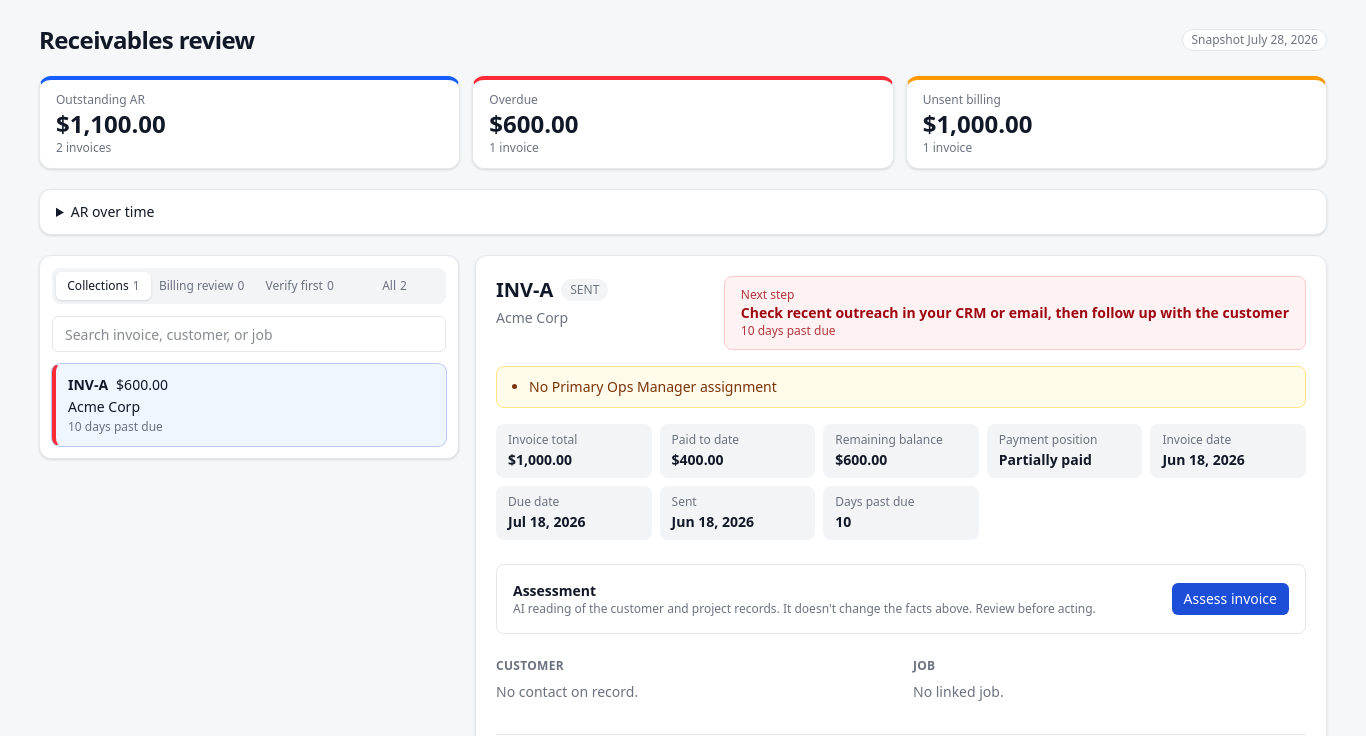
Test: paid and not-yet-due invoices don't offer an assessment
What coordinates should you click on to do the following:
click the tab "All 2"
I would click on:
 (395, 286)
Its box is [347,272,442,300].
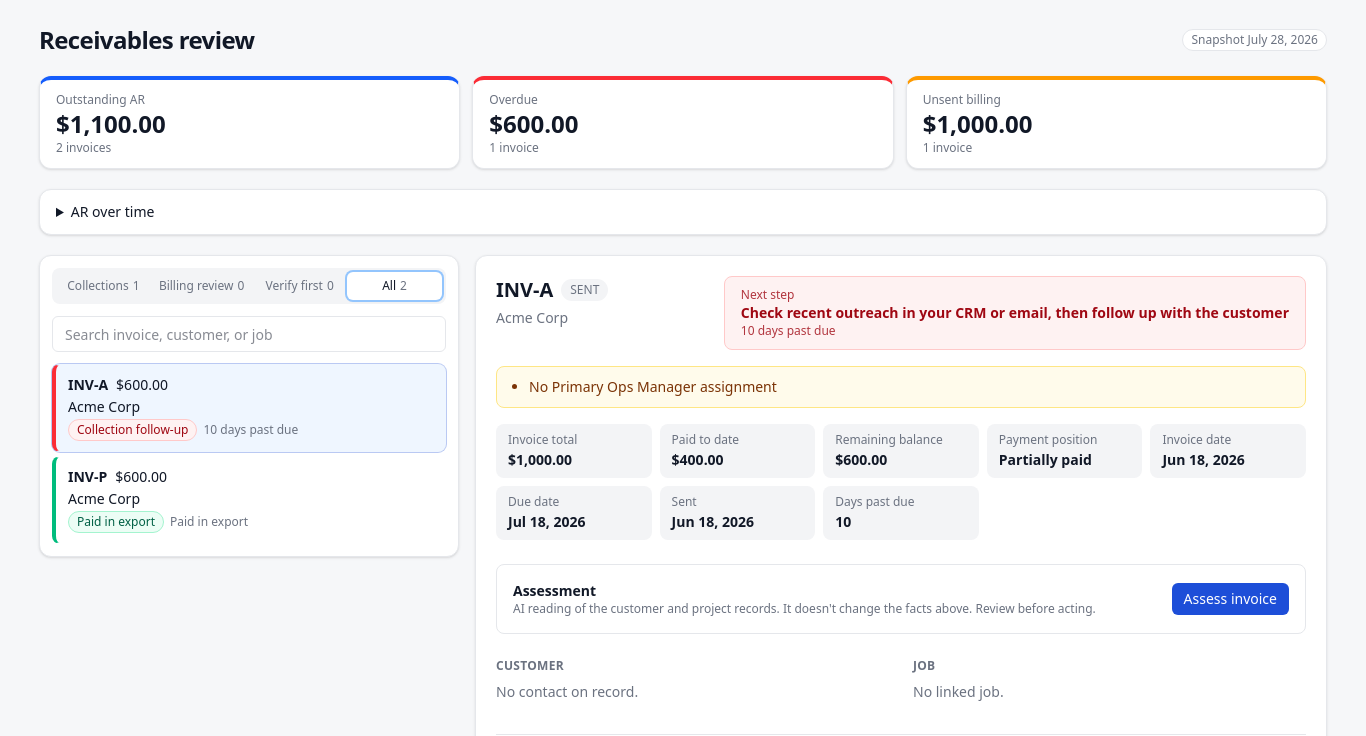
What coordinates should you click on to do the following:
click the button "INV-P $600.00 Acme Corp Paid in export Paid in export"
I would click on:
 (88, 476)
Its box is [52,456,446,544].
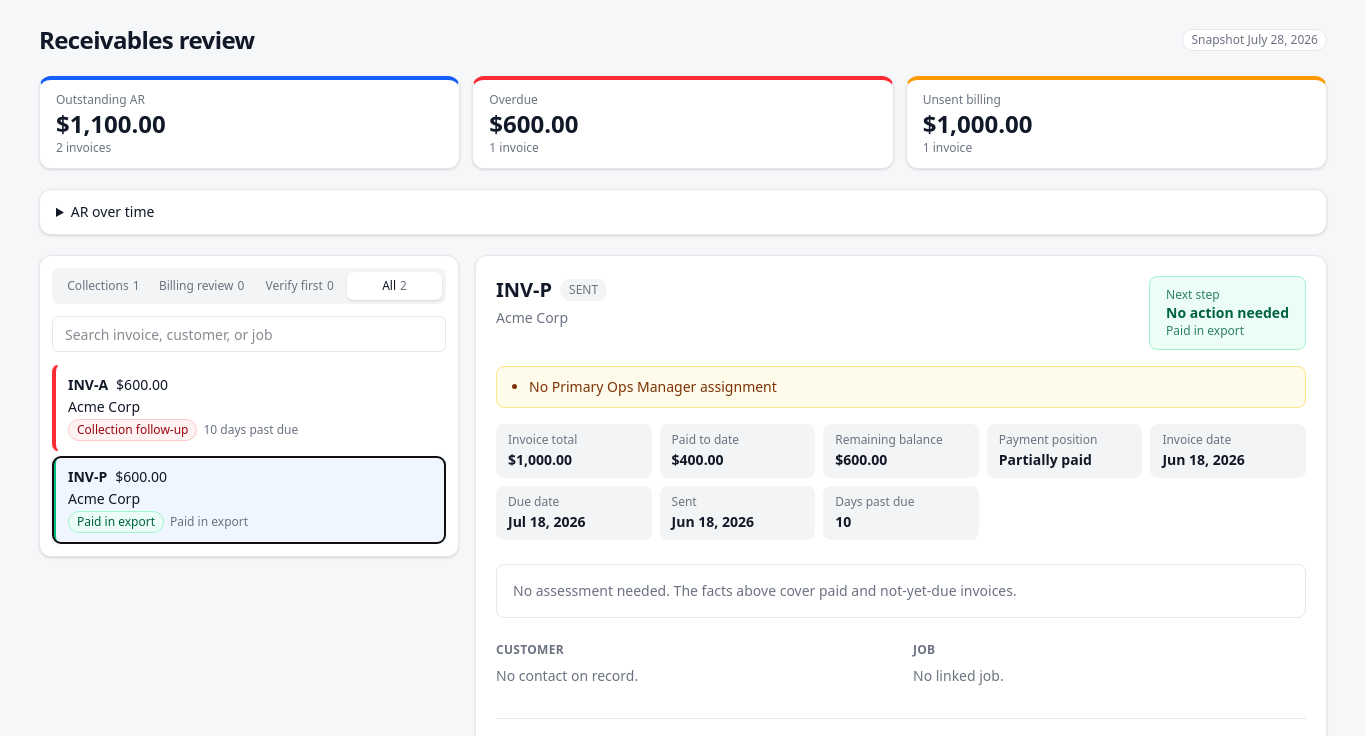
Check: the text "No assessment needed" is shown, box [513,581,1017,600]
Check: the button "Assess invoice" is gone
